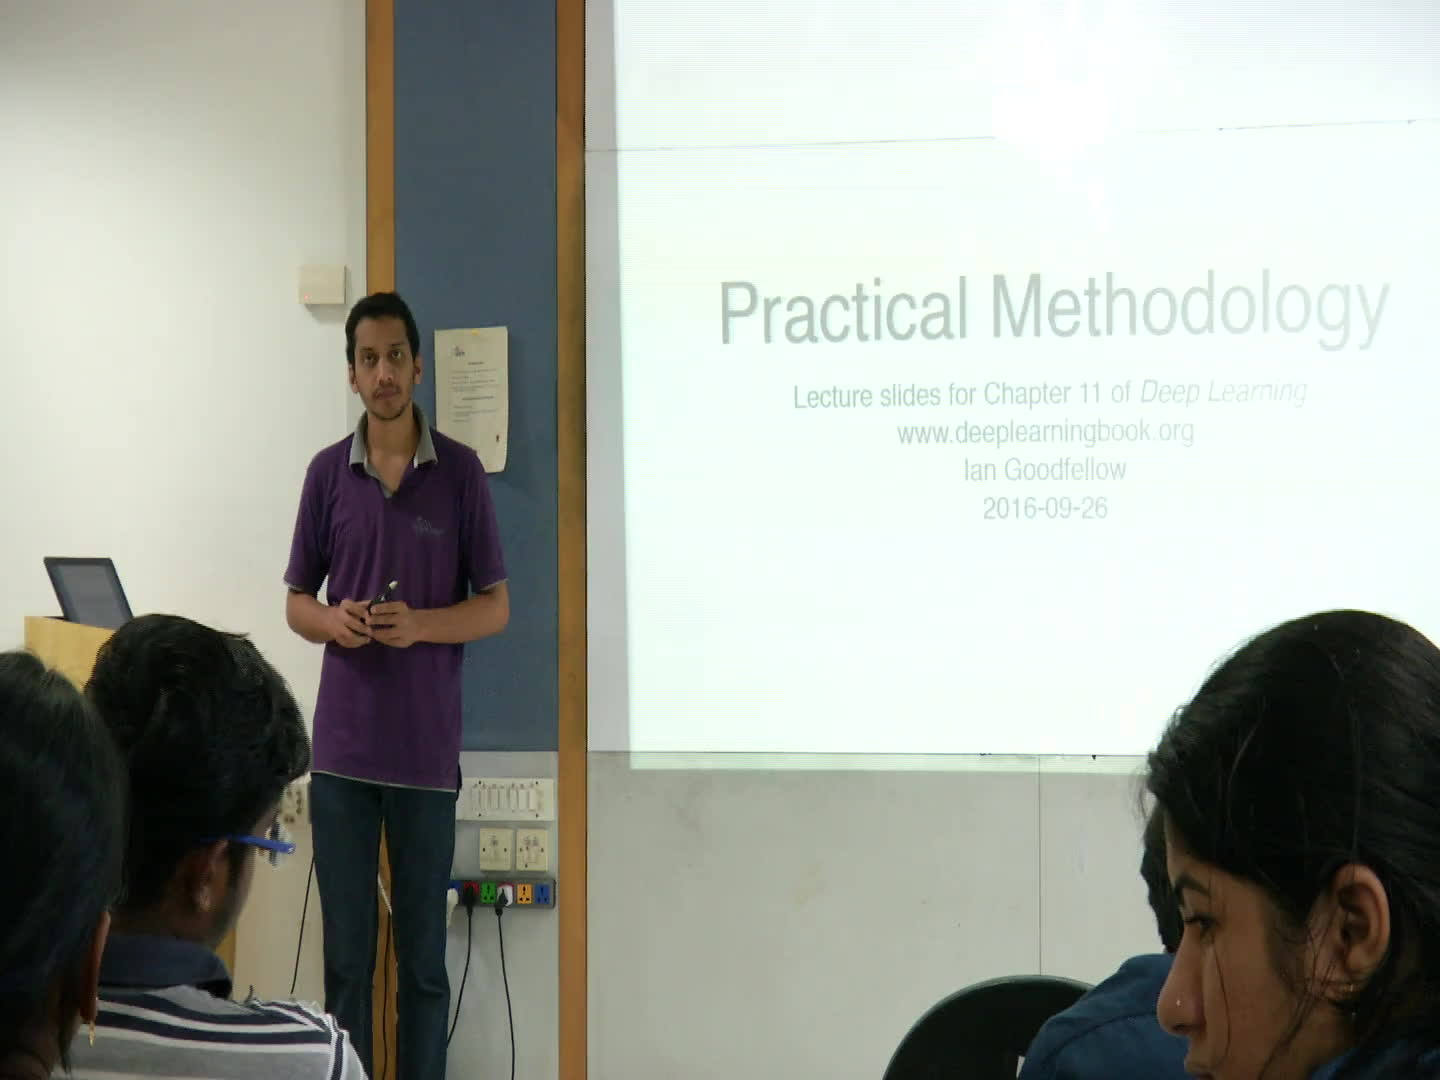slide: (615, 1, 1440, 774)
